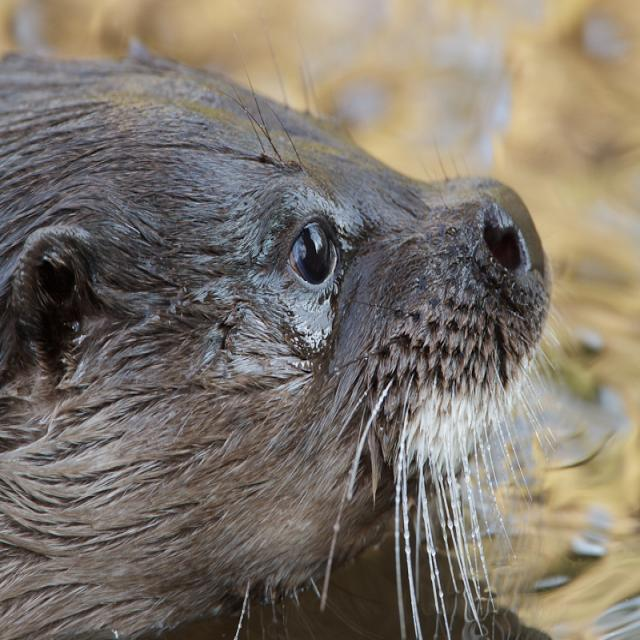otter: (1, 63, 554, 640)
